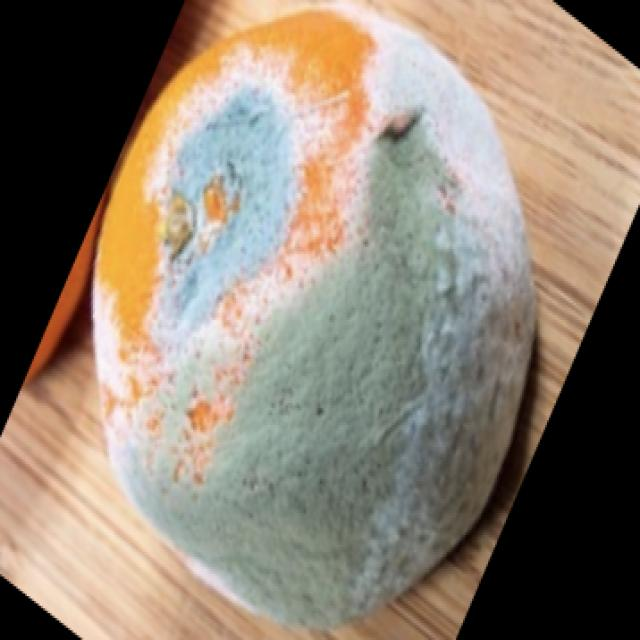sangat_busuk: (96, 14, 535, 623)
